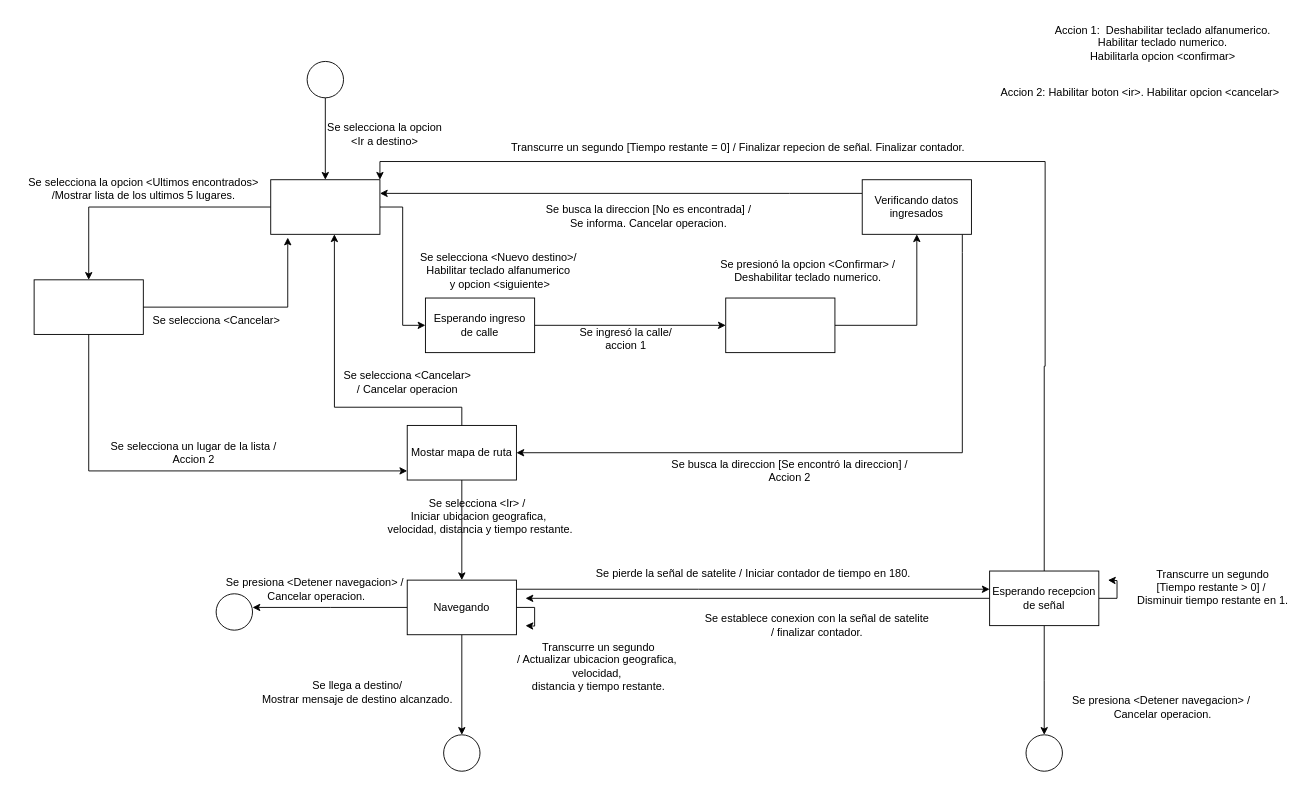
Image size: 1314x787. Some labels were removed from this diagram. Each missing label, with the box of its shape:
Esperando ingreso de altura: (725, 297, 835, 353)
Esperando seleccion: (33, 279, 143, 334)
Mostrando pantalla inicial de busqueda: (270, 179, 380, 234)
